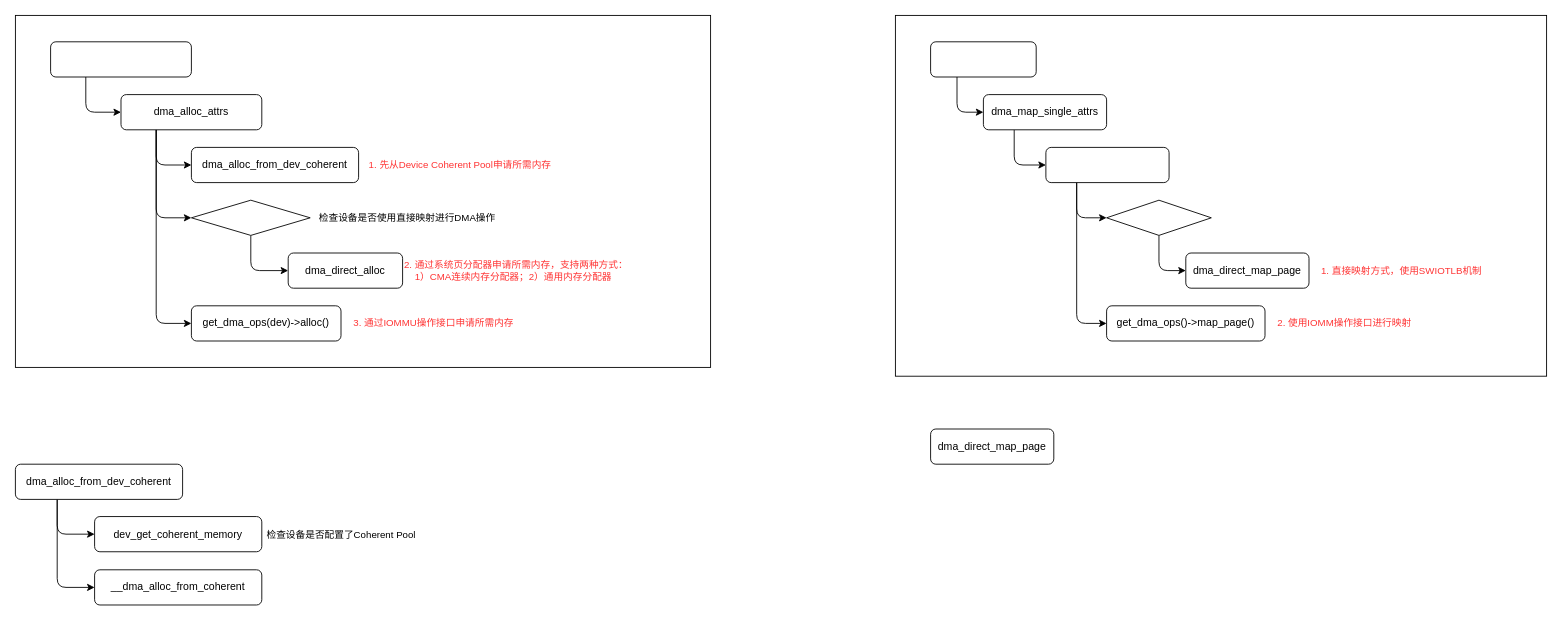
Some shapes in this 1562 by 620 pixel diagram are drawn without their labels. Each missing label, with the centre of its shape:
dma_alloc_coherent: [120,59]
dma_alloc_direct(): [250,217]
dma_map_direct: [1158,217]
dma_map_page_attrs: [1107,165]
dma_map_single: [983,59]
